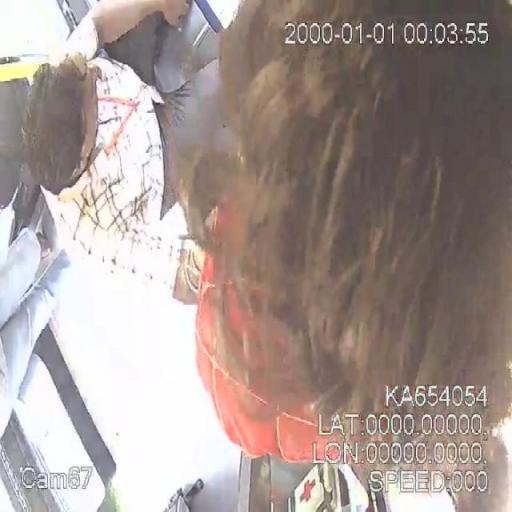persona: (187, 2, 511, 510), (12, 2, 232, 300)
